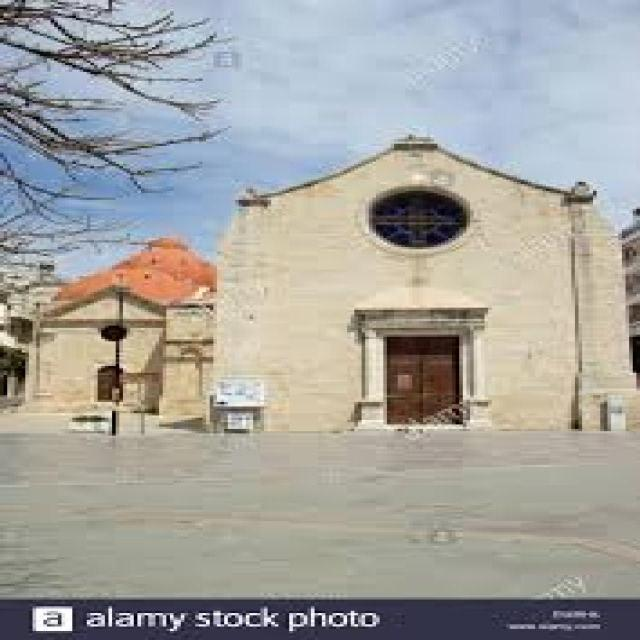Agia Aikaterini: (47, 133, 636, 432)
